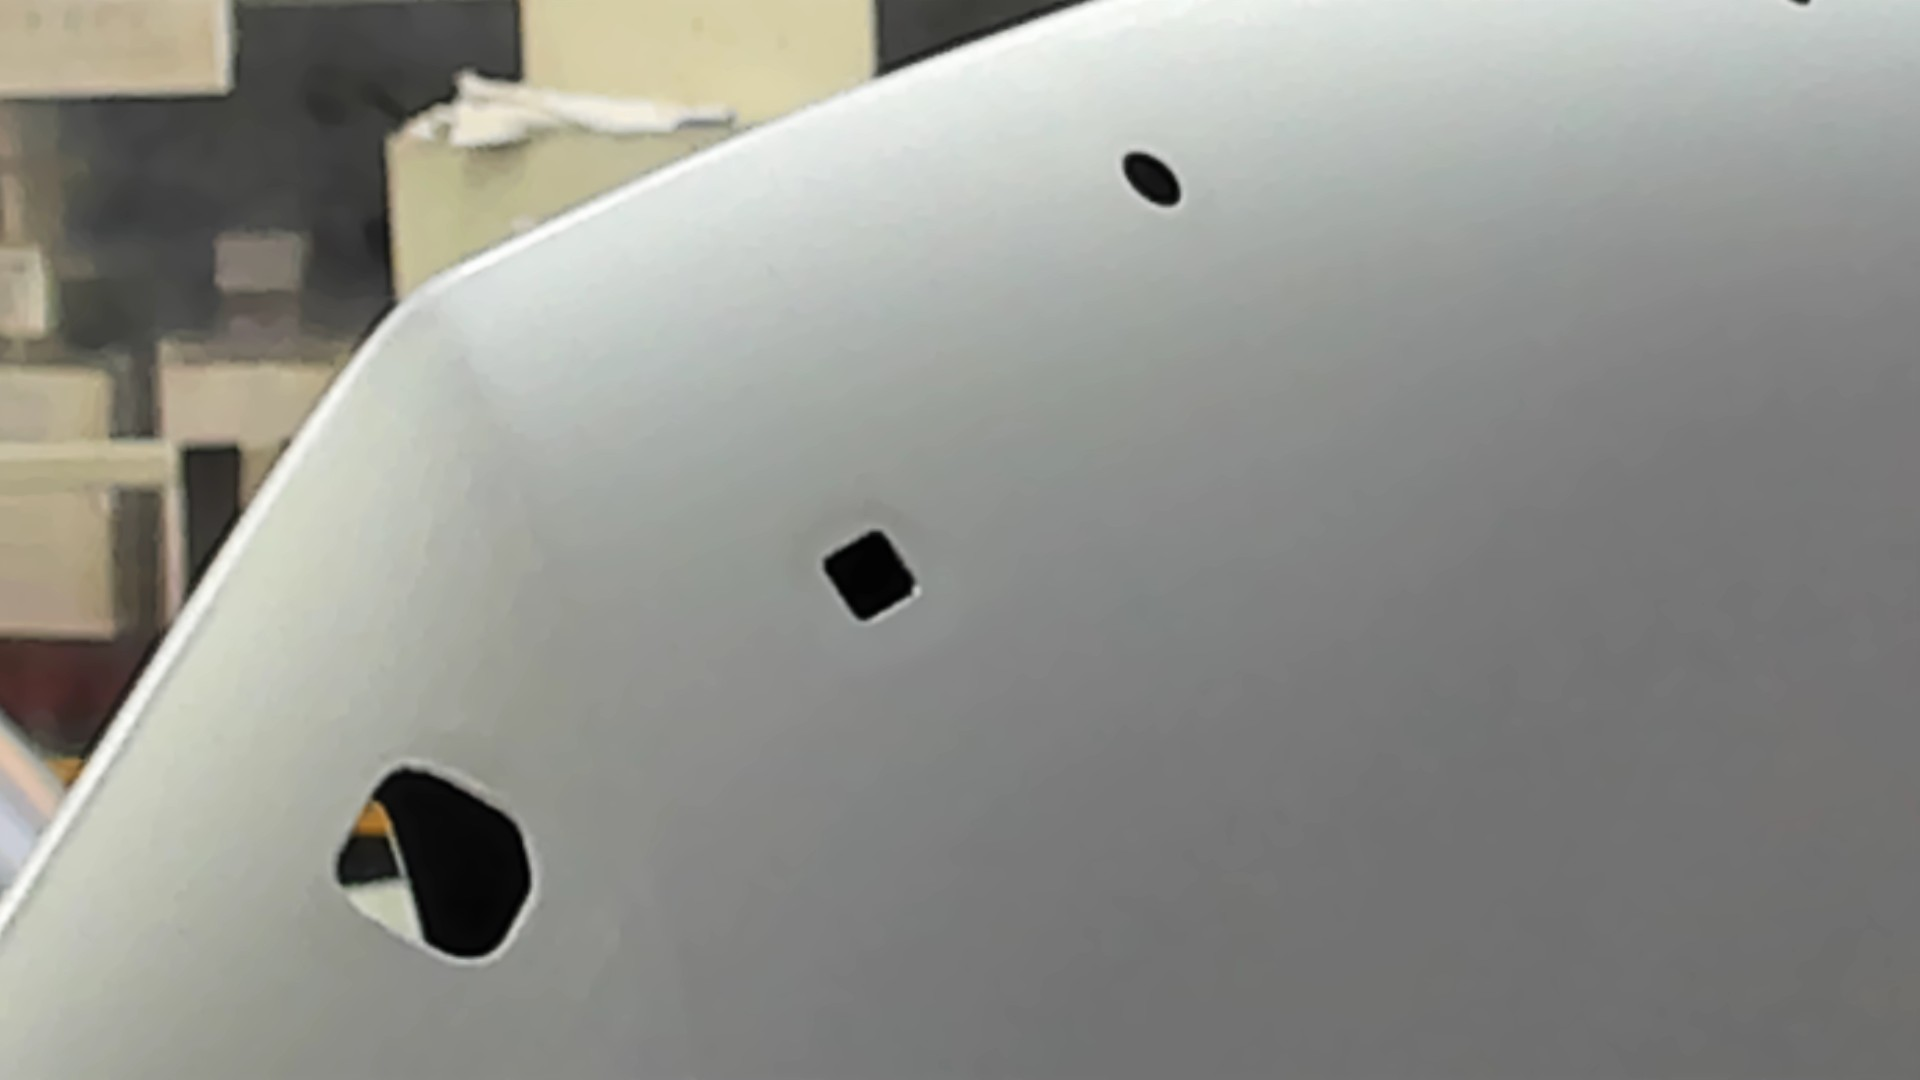chico: (1116, 149, 1185, 214)
grande: (323, 760, 539, 969)
mediano: (816, 526, 924, 626)
